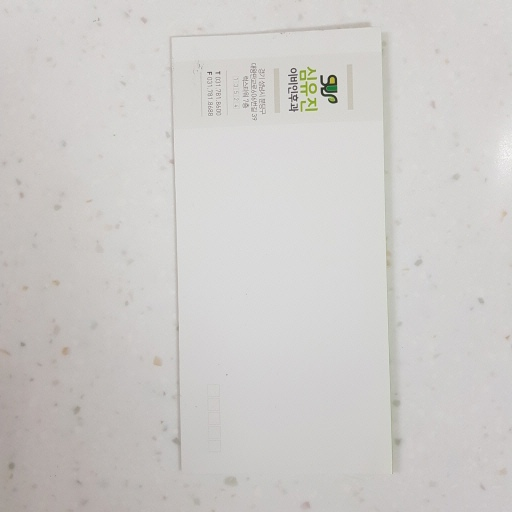Paper_2: (167, 21, 414, 494)
